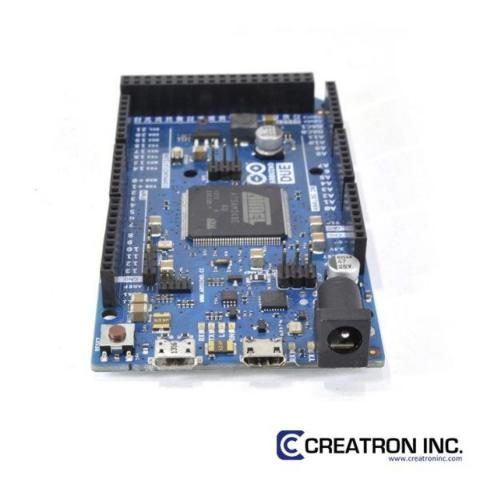Arduino-Due: (82, 67, 388, 389)
